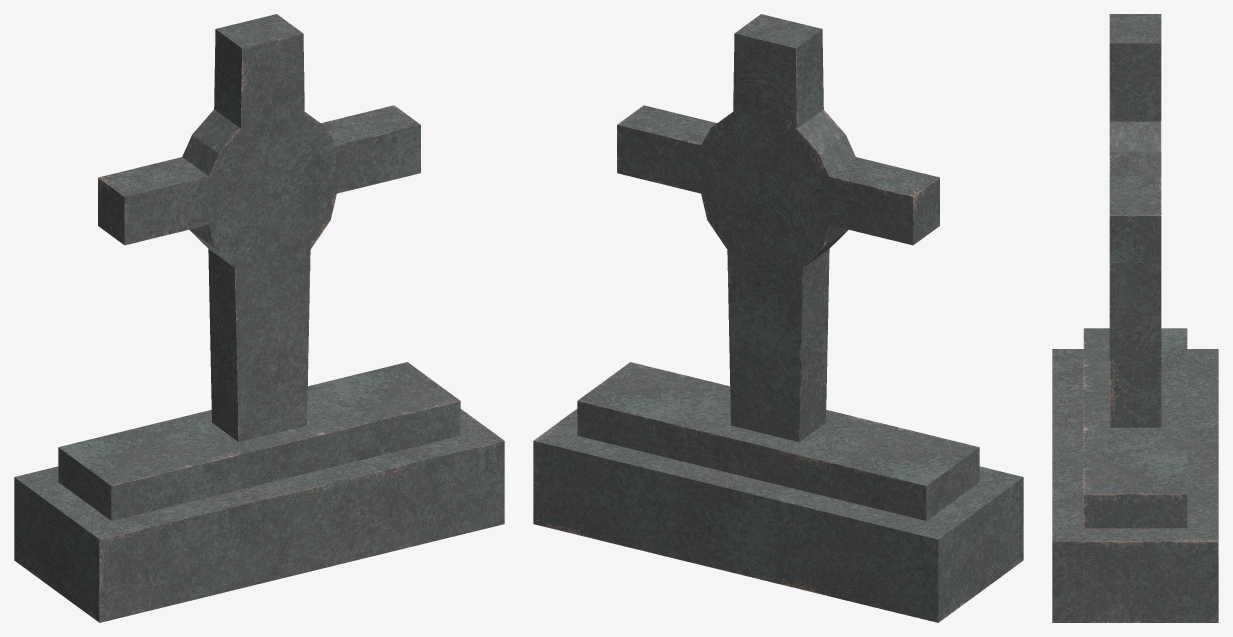
The model's file is Lapida1.fbx.
3 views of the same model, side by side, from view 1: azimuth 30°, elevation 25°; view 2: azimuth 150°, elevation 25°; view 3: azimuth 270°, elevation 25° (orthographic). The views are drawn at different scales.
Visible parts, largest first — view 1: Lapida1; view 2: Lapida1; view 3: Lapida1.
Part boxes in pixels (x1=…): Lapida1: x1=14, y1=14, x2=504, y2=622; Lapida1: x1=533, y1=14, x2=1023, y2=622; Lapida1: x1=1052, y1=14, x2=1218, y2=622.
Bounding box in the file's own units: 204 × 246 × 74.51.
Materials: 1 (1 with a texture image).
